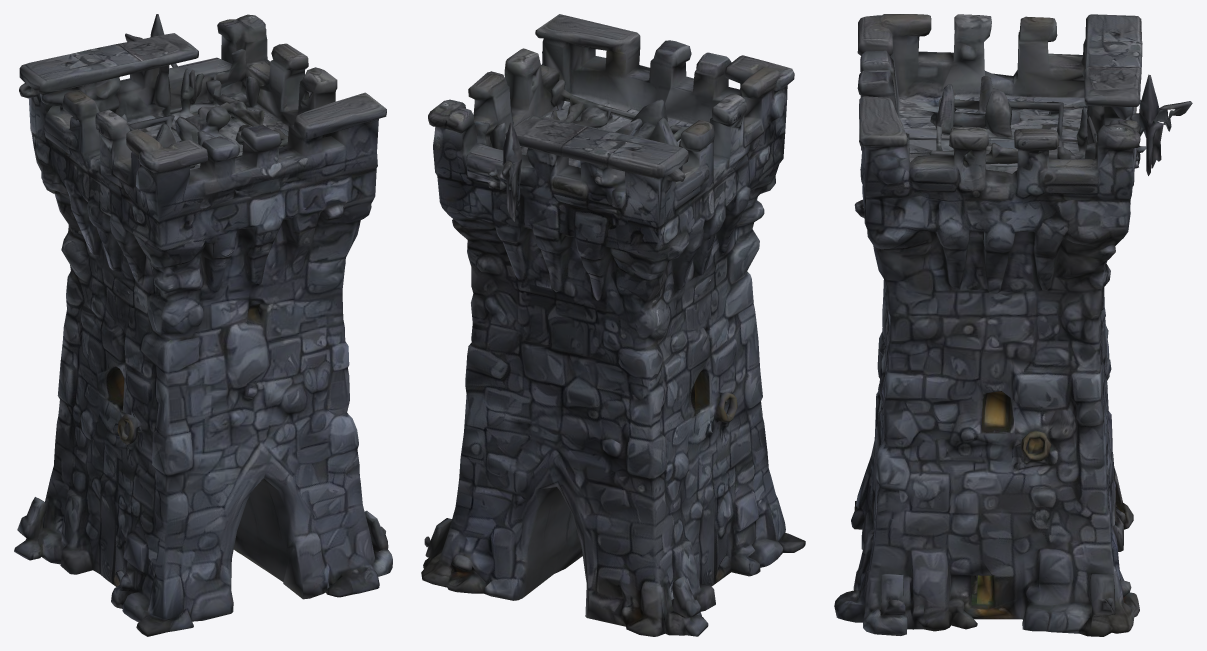
The model's file is fort_tower.glb.
The picture shows the model from 3 angles, left to right: view 1: azimuth 30°, elevation 25°; view 2: azimuth 150°, elevation 25°; view 3: azimuth 270°, elevation 25°; orthographic projection. The views are drawn at different scales.
Visible parts, largest first — view 1: tripo_node_26477661-3cba-492a-8bcd-f61b5698a245; view 2: tripo_node_26477661-3cba-492a-8bcd-f61b5698a245; view 3: tripo_node_26477661-3cba-492a-8bcd-f61b5698a245.
Part boxes in pixels (x1,y1,x2,y2): tripo_node_26477661-3cba-492a-8bcd-f61b5698a245: [14, 14, 392, 636]; tripo_node_26477661-3cba-492a-8bcd-f61b5698a245: [421, 14, 805, 636]; tripo_node_26477661-3cba-492a-8bcd-f61b5698a245: [834, 14, 1192, 636].
Bounding box in the file's own units: 2.58 × 4.39 × 2.8.
Materials: 1 (1 with a texture image).
